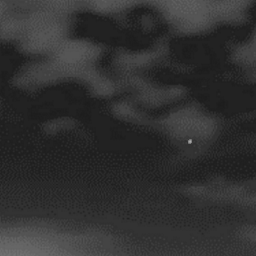Target: (186, 138, 194, 144)
